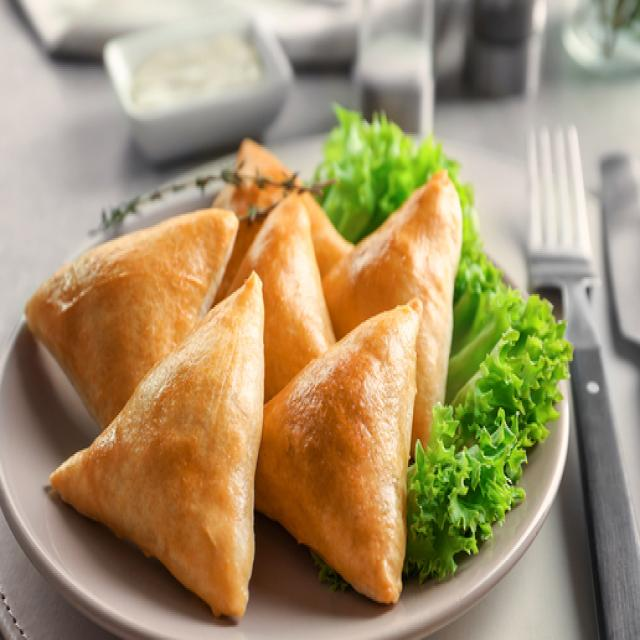samosa: (2, 149, 442, 595)
